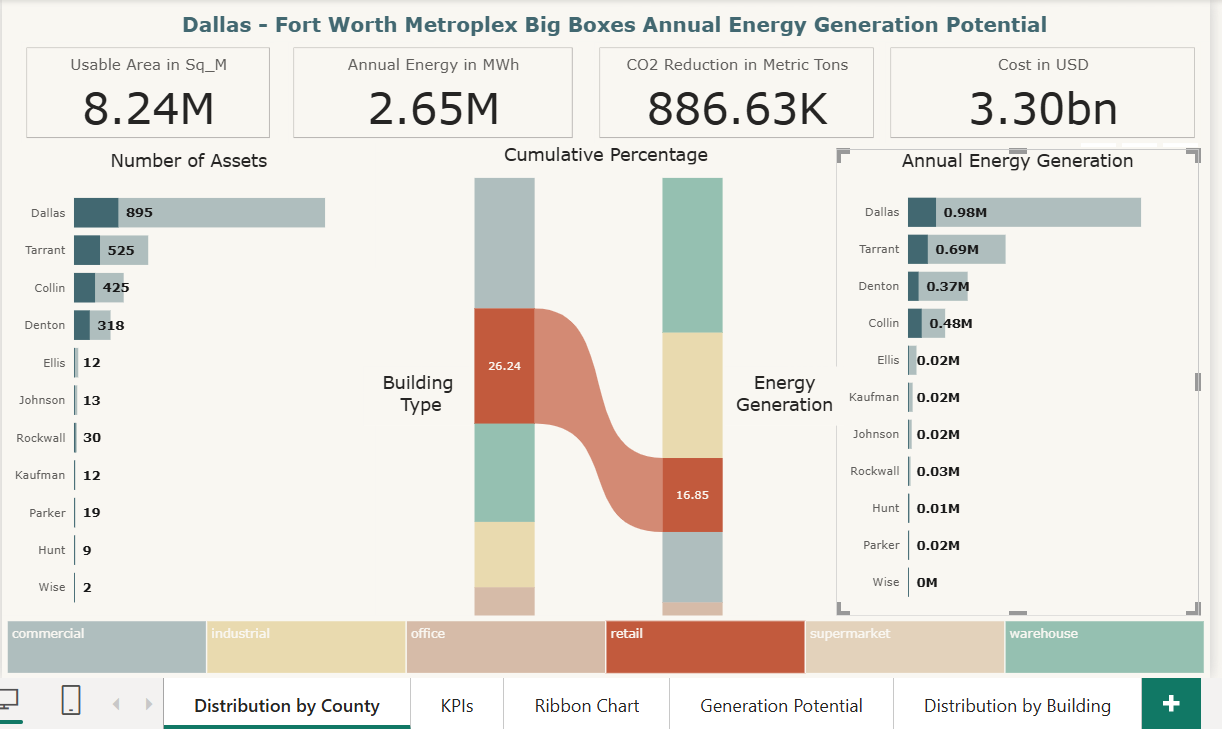

Layout of this report page (visuals, bound fields, positions):
{"tool":"powerbi","page":{"name":"Distribution by County","canvas":[1280,720],"ordinal":0},"visuals":[{"type":"barChart","title":"Number of Assets","fields":{"Category":["final_solar_estimates.county"],"Y":["CountNonNull(final_solar_estimates.building)"]},"box":[0,158.3,396.3,501.8],"z":0},{"type":"barChart","title":"Annual Energy Generation","fields":{"Category":["final_solar_estimates.county"],"Y":["Sum(final_solar_estimates.Annual_MWh)"]},"box":[884.7,158.3,385.3,495.7],"z":1000},{"type":"cardVisual","fields":{"Data":["Sum(final_solar_estimates.Roof_Sq_M)"]},"box":[20.9,45.4,268.7,106.7],"z":2000},{"type":"cardVisual","fields":{"Data":["Sum(final_solar_estimates.Annual_MWh)"]},"box":[303.1,45.4,306.8,106.7],"z":3000},{"type":"cardVisual","fields":{"Data":["Sum(final_solar_estimates.Carbon_Reduction_tonsCO2)"]},"box":[628.2,45.4,301.8,106.7],"z":4000},{"type":"cardVisual","fields":{"Data":["Sum(final_solar_estimates.Estimated_Solar_Cost_USD)"]},"box":[936.2,45.4,333.7,106.7],"z":5000},{"type":"ribbonChart","title":"Cumulative Percentage","fields":{"Y":["Sum(Ribbon_Chart_Table.Value)"],"Series":["Ribbon_Chart_Table.Building_Type"],"Category":["Ribbon_Chart_Table.Metric"]},"box":[396.3,152.1,488.3,508],"z":6000},{"type":"treemap","fields":{"Group":["final_solar_estimates.building"],"Values":["Count(final_solar_estimates.building)"]},"box":[0,654,1279.8,66.3],"z":7000},{"type":"textbox","box":[382.8,389,115.3,62.6],"z":8000},{"type":"textbox","box":[766.9,389,126.4,62.6],"z":9000},{"type":"textbox","box":[18.4,8.6,1261.4,36.8],"z":10000}]}

Visuals, with their boxes on the page's 1280x720 design canvas (x1, y1, x2, y2). These are canvas units, not pixel positions in the 1222x729 screenshot, which may show the page scaled, cropped or inside an application window:
"Number of Assets" barChart: bbox=[0, 158, 396, 660]
"Annual Energy Generation" barChart: bbox=[885, 158, 1270, 654]
cardVisual - Sum(final_solar_estimates.Roof_Sq_M): bbox=[21, 45, 290, 152]
cardVisual - Sum(final_solar_estimates.Annual_MWh): bbox=[303, 45, 610, 152]
cardVisual - Sum(final_solar_estimates.Carbon_Reduction_tonsCO2): bbox=[628, 45, 930, 152]
cardVisual - Sum(final_solar_estimates.Estimated_Solar_Cost_USD): bbox=[936, 45, 1270, 152]
"Cumulative Percentage" ribbonChart: bbox=[396, 152, 885, 660]
treemap - final_solar_estimates.building x Count(final_solar_estimates.building): bbox=[0, 654, 1280, 720]
textbox: bbox=[383, 389, 498, 452]
textbox: bbox=[767, 389, 893, 452]
textbox: bbox=[18, 9, 1280, 45]
